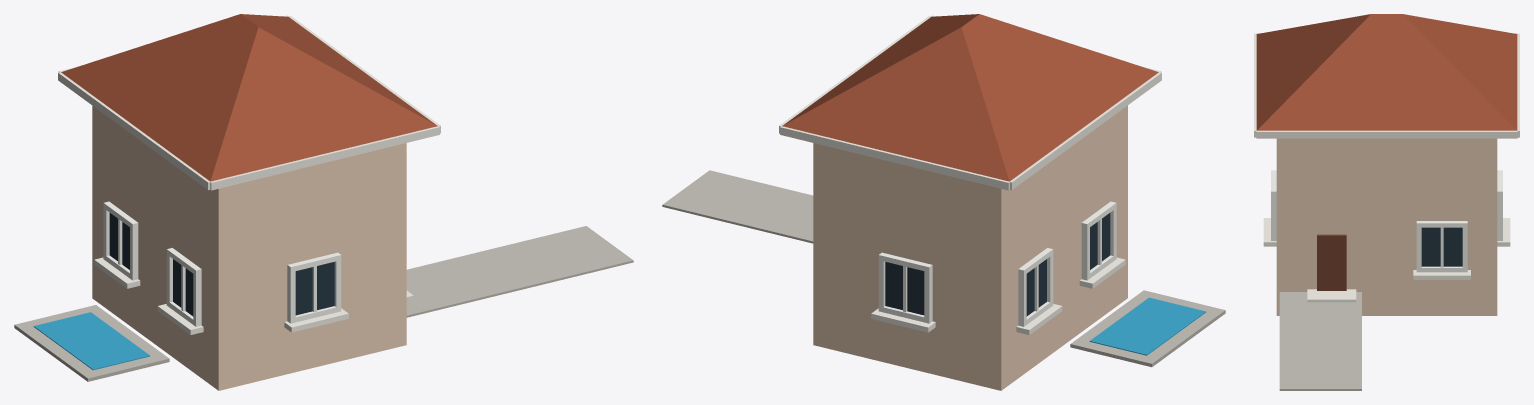
3 renders of one model, left to right at view 1: azimuth 30°, elevation 25°; view 2: azimuth 150°, elevation 25°; view 3: azimuth 270°, elevation 25°, orthographic. The views are drawn at different scales.
Parts seen in each view (by area): view 1: b10840; view 2: b10840; view 3: b10840.
Part boxes in pixels (x1=…): b10840: x1=14, y1=14, x2=633, y2=390; b10840: x1=662, y1=14, x2=1225, y2=390; b10840: x1=1254, y1=14, x2=1519, y2=390.
Bounding box in the file's own units: 6503 × 3525 × 3237.
